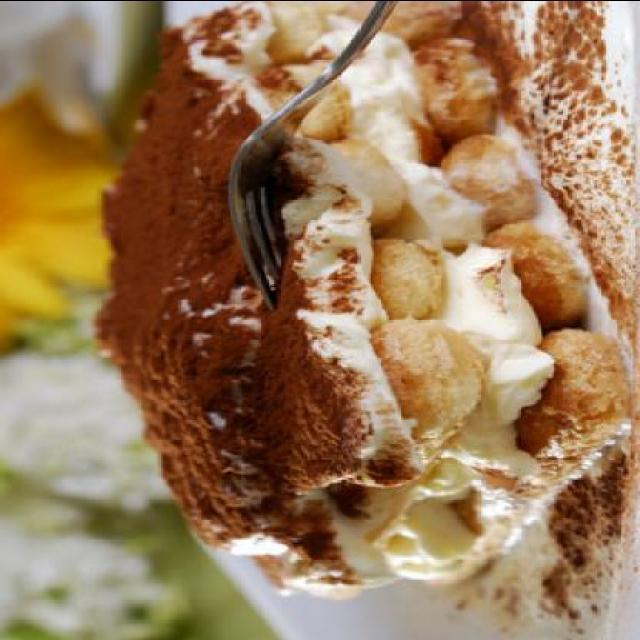Tiramisu: (114, 4, 608, 576)
